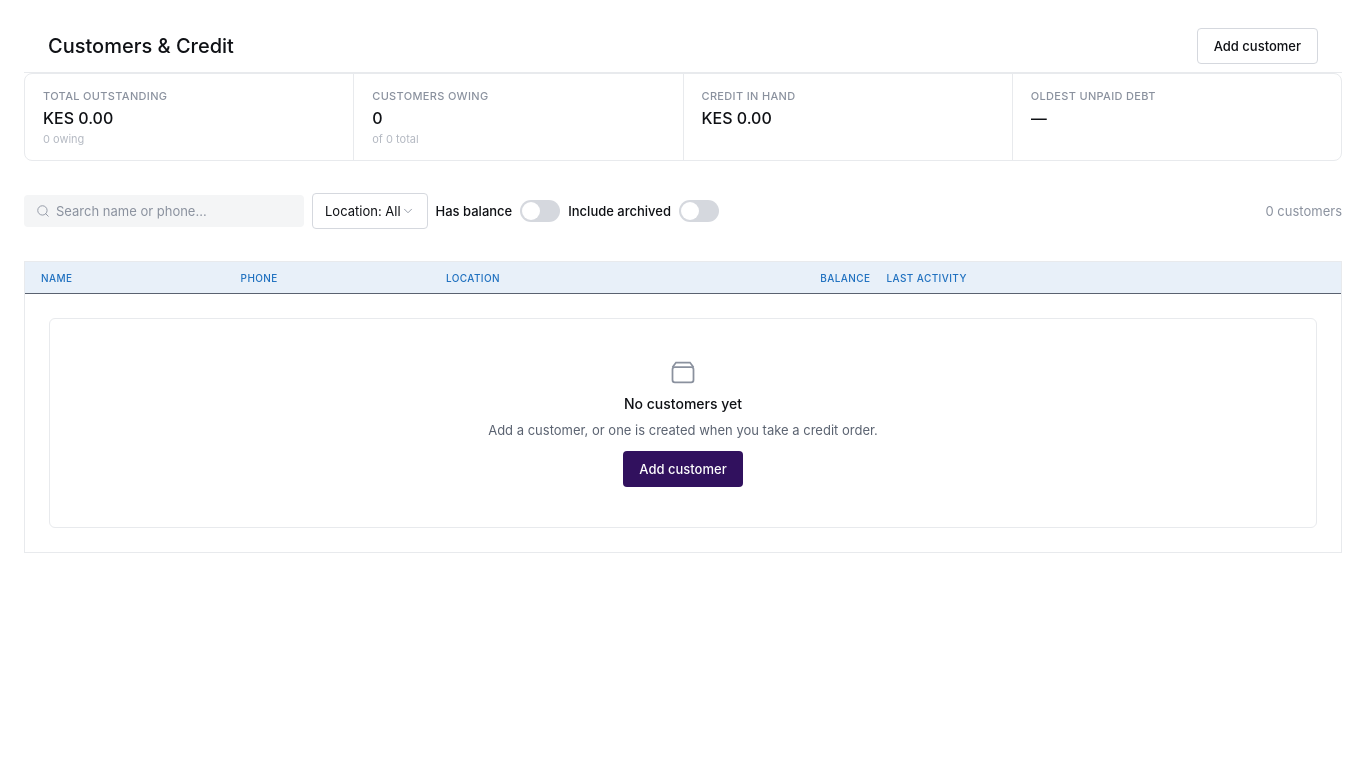
Scenario: A1 — Customers & Credit register › shows a filtered <EmptyState> with Clear filters when the search matches nothing
The width and height of the screenshot is (1366, 768).
Type "zzz" into the search field named "Search customers".
click(174, 211); type("zzz")  # box top-left (56, 202), bottom-right (292, 220)
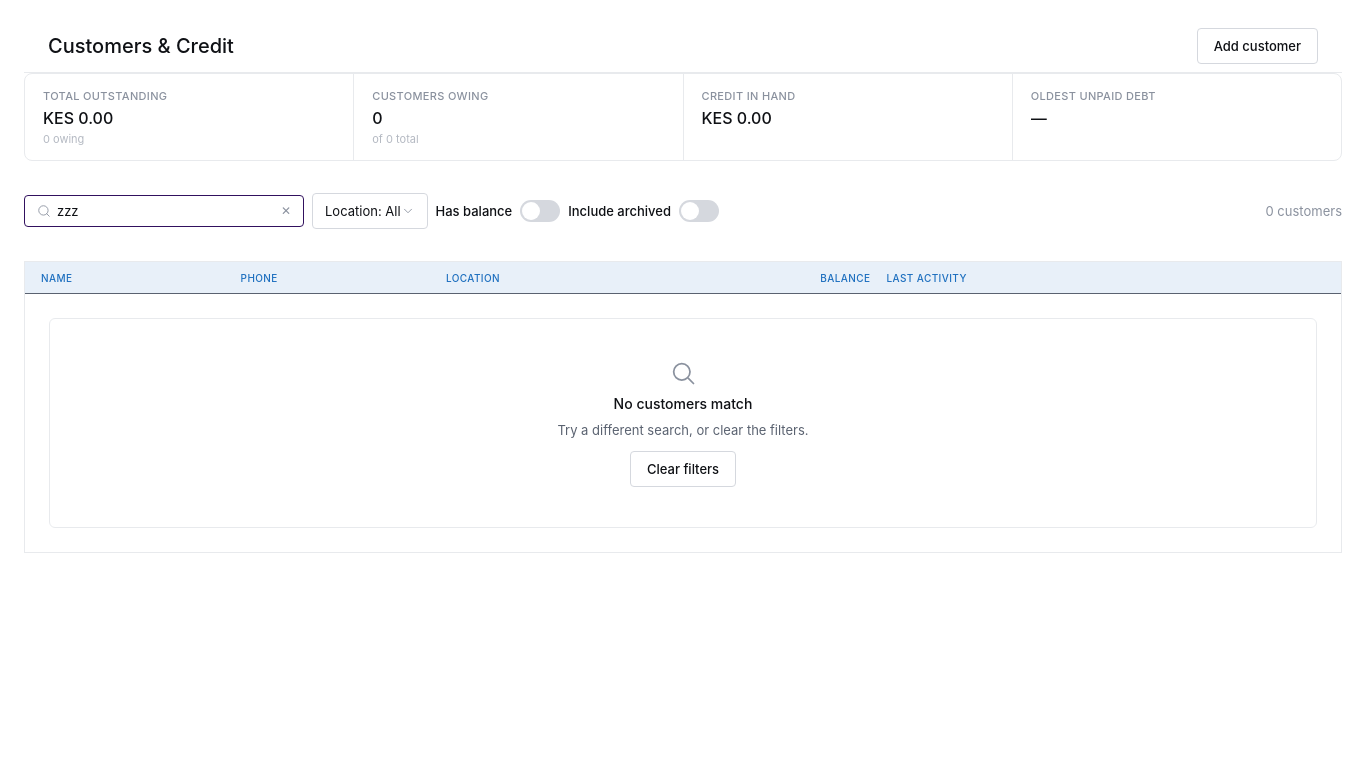
Check: the text "No customers match" is shown, box top-left (614, 395), bottom-right (752, 413)
Check: the button "Clear filters" is shown, box top-left (630, 451), bottom-right (736, 487)
